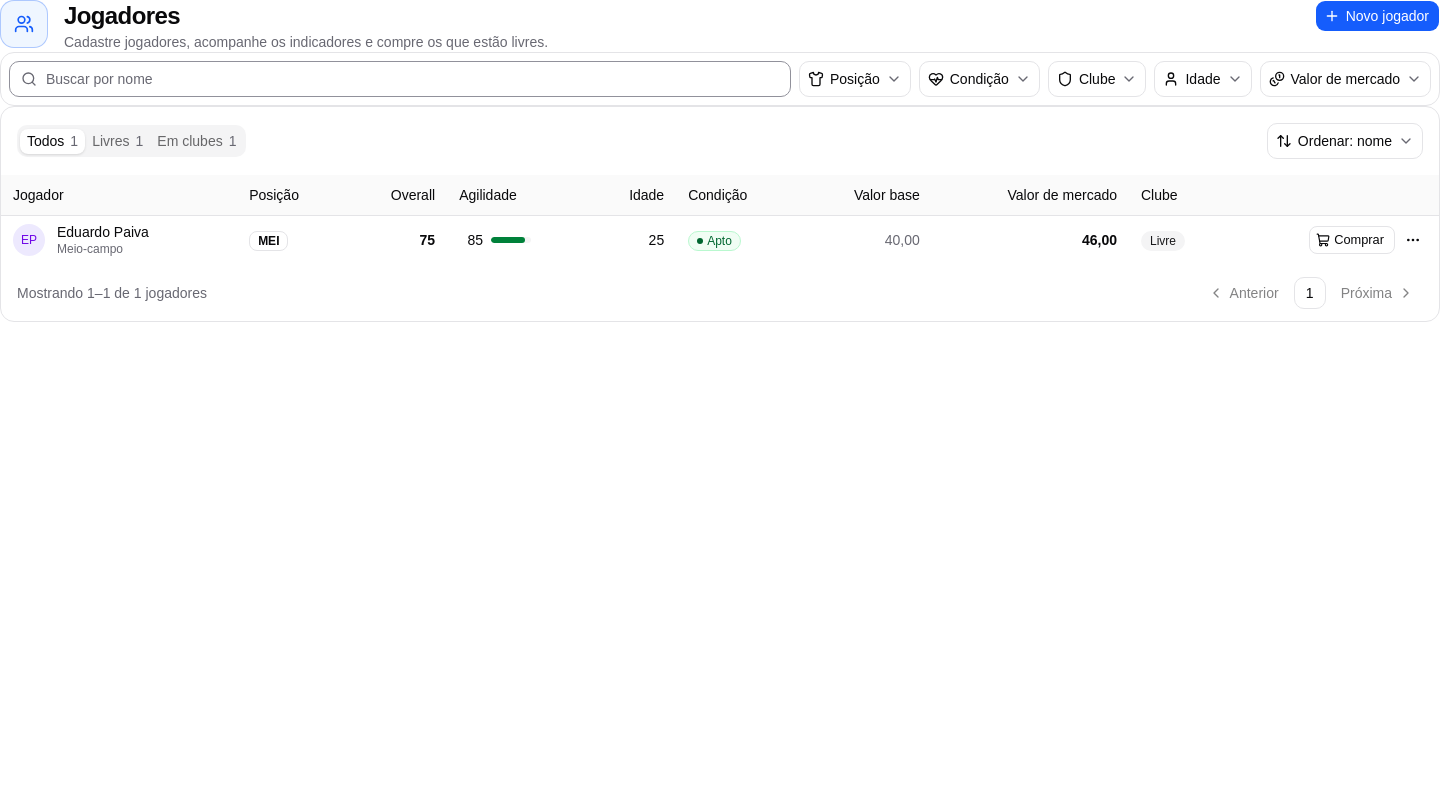
Test case: compra de jogador › não envia fidelidade no passado
Click the button with aria-label "Comprar Eduardo Paiva" at (1352, 240), box [1309,226,1395,254]
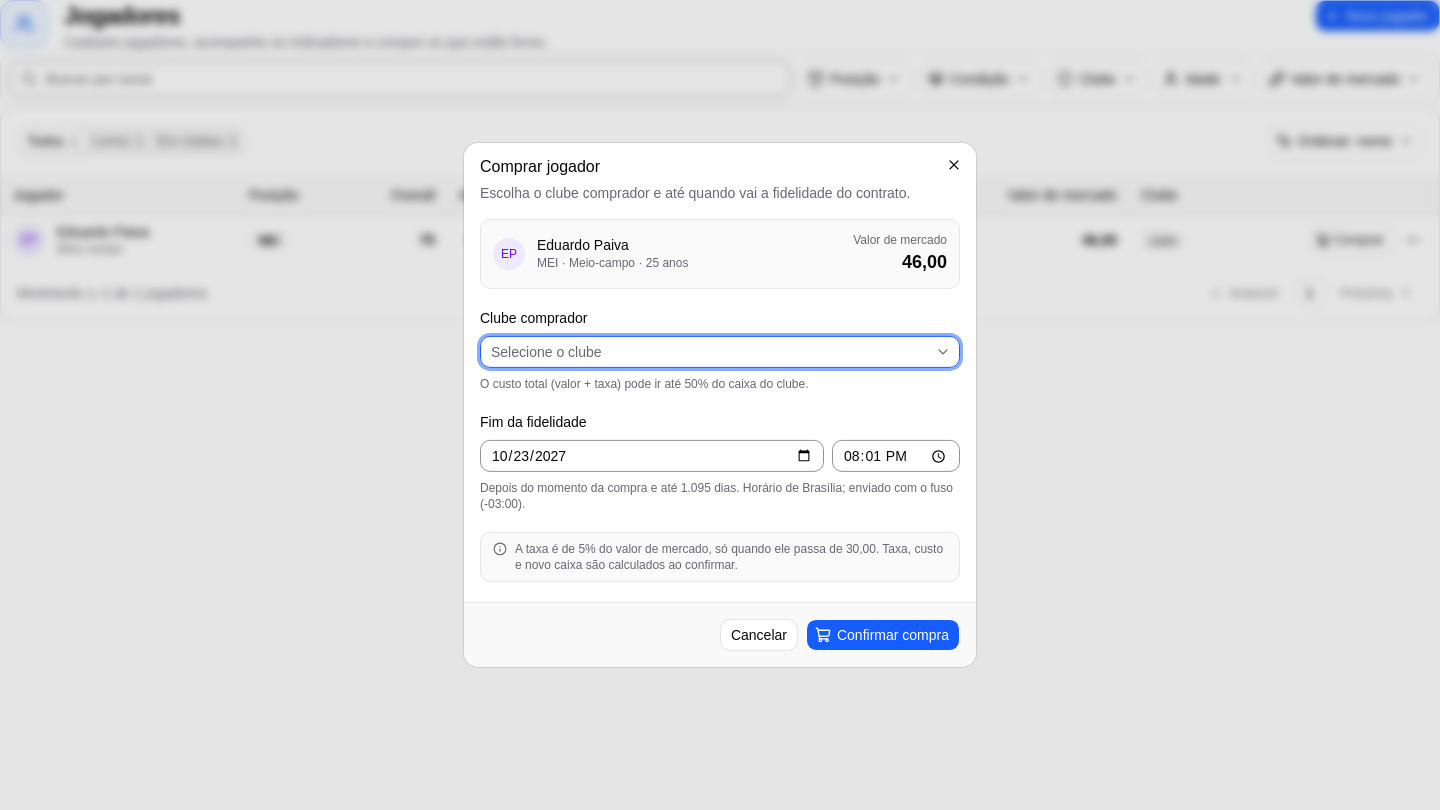
Click the dropdown named "Clube comprador" at (546, 352), box [480,336,960,368]
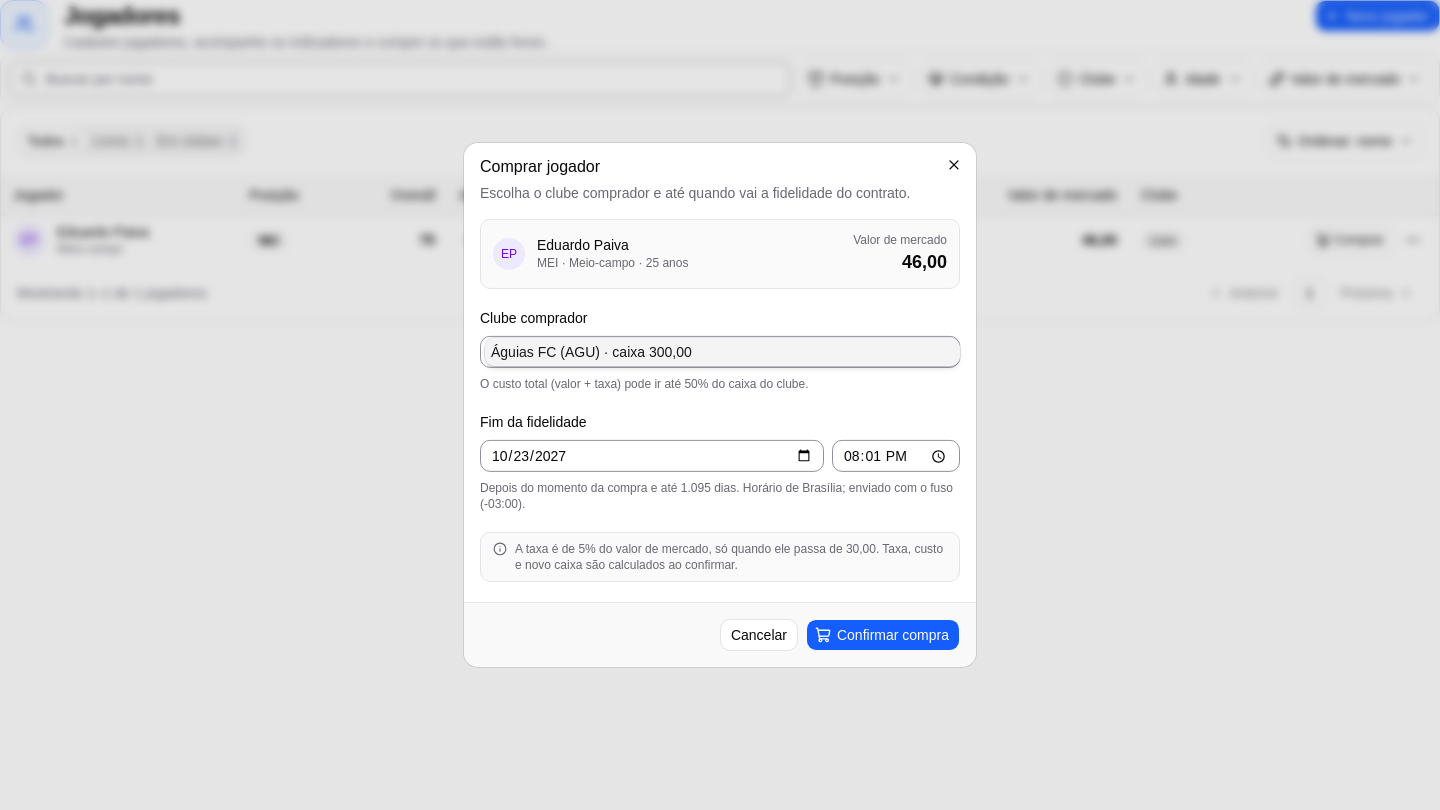
Click the option "Águias FC (AGU) · caixa 300,00" at (524, 352), box [485,338,960,366]
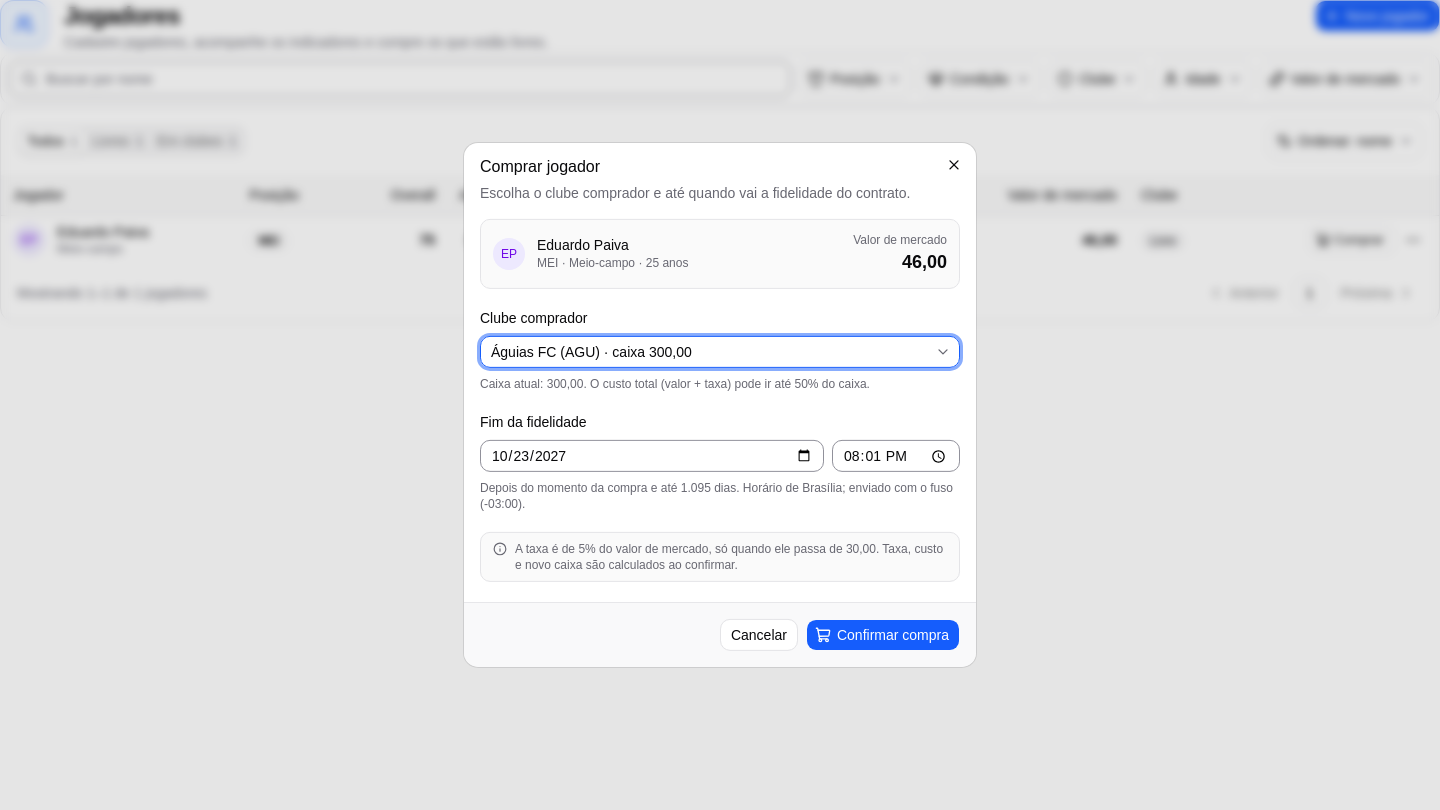
Type "2020-01-01" into the date field named "Data do fim da fidelidade" at (652, 456), box [480,440,824,472]
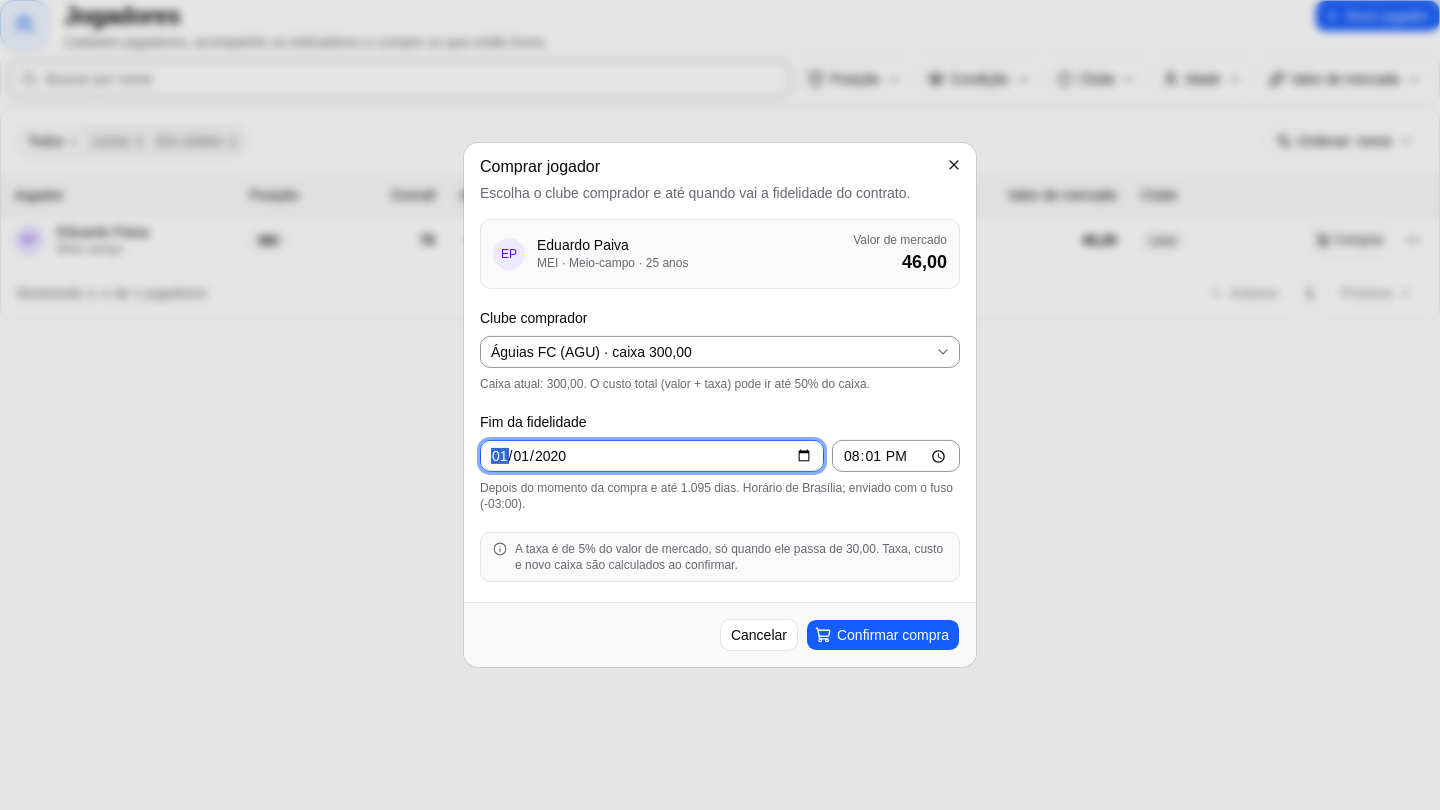
Replace the text in the time field named "Hora do fim da fidelidade" with "10:00" at (896, 456), box [832,440,960,472]
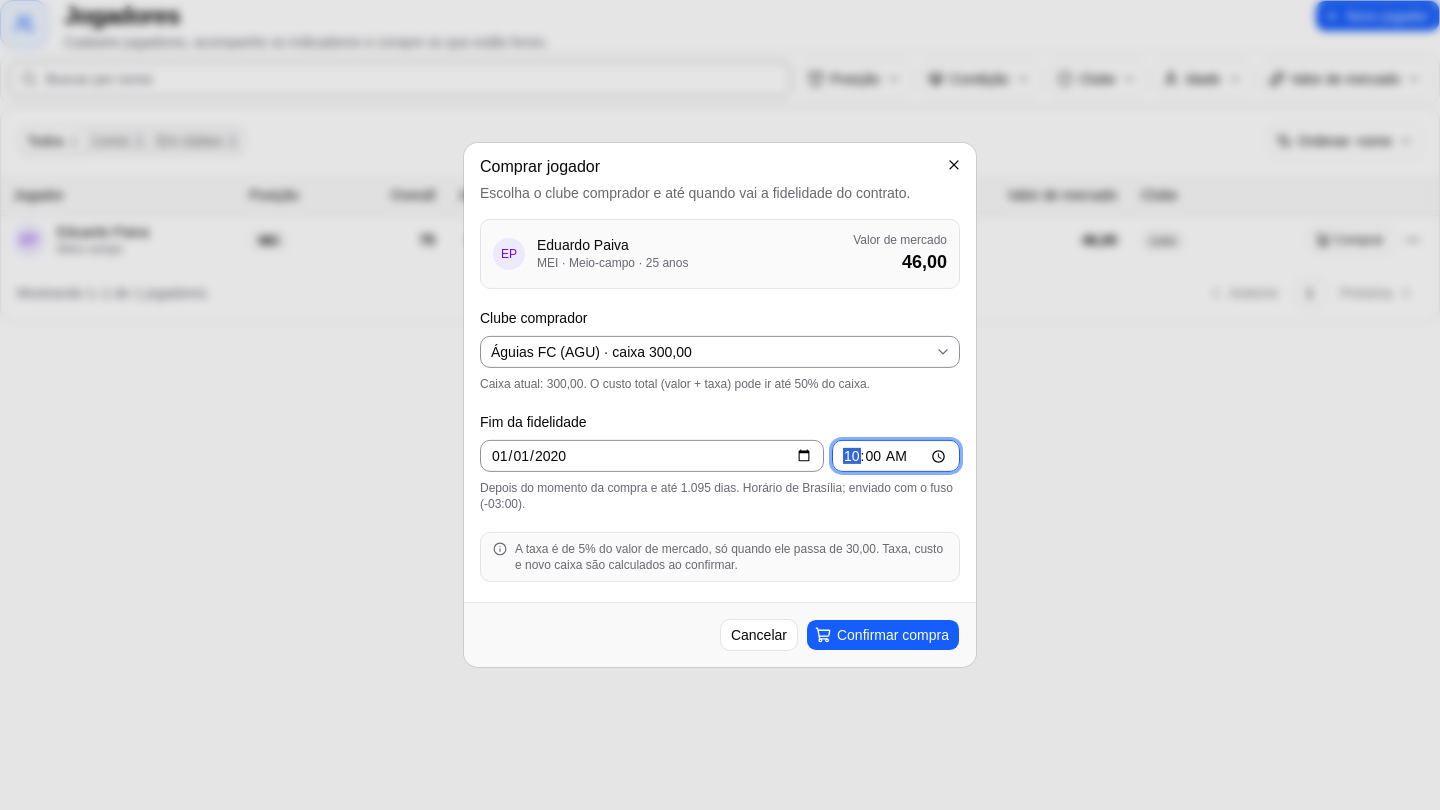
Click the button "Confirmar compra" at (883, 635), box [806,619,960,651]
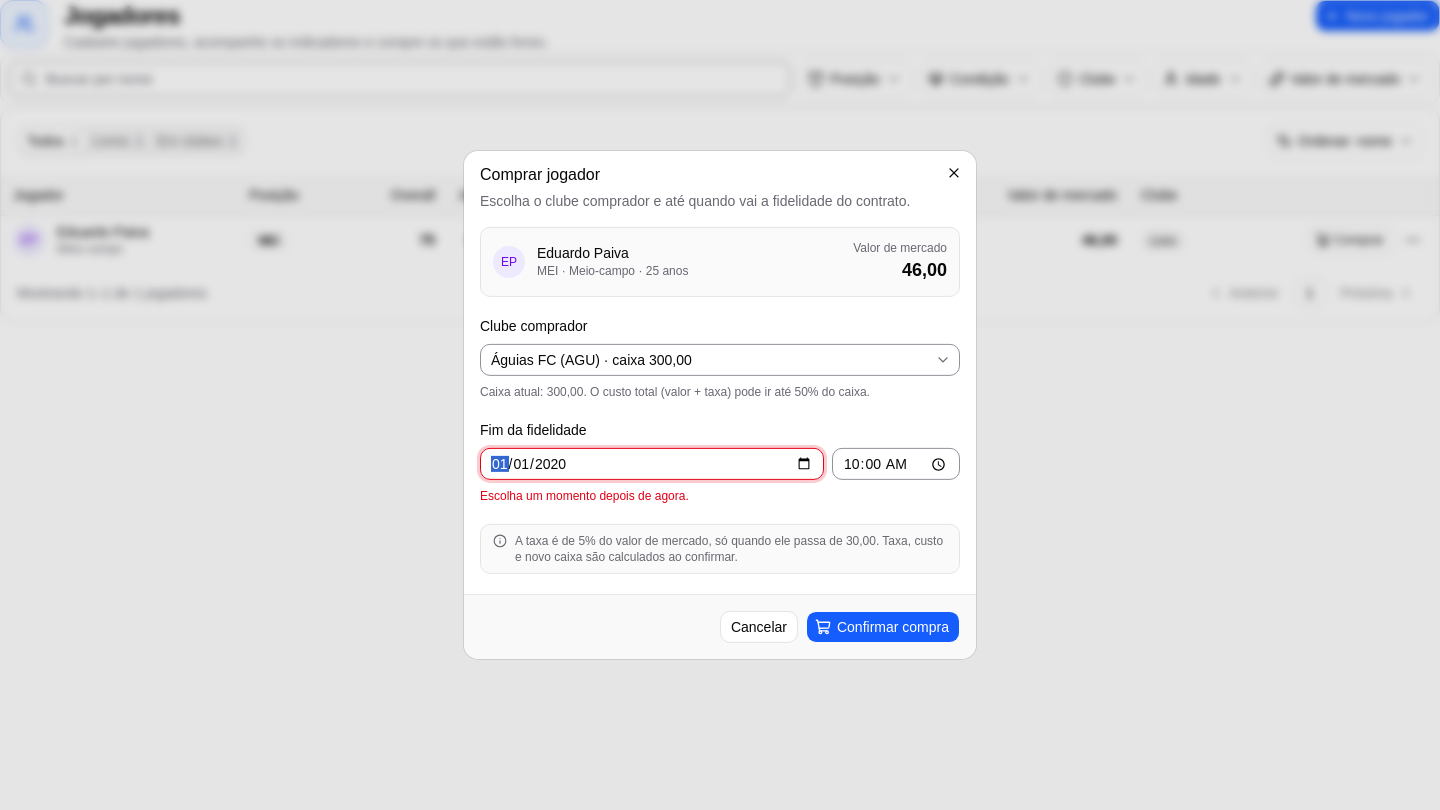
Result: the text "Escolha um momento depois de agora." is shown at [480,489,689,503]
